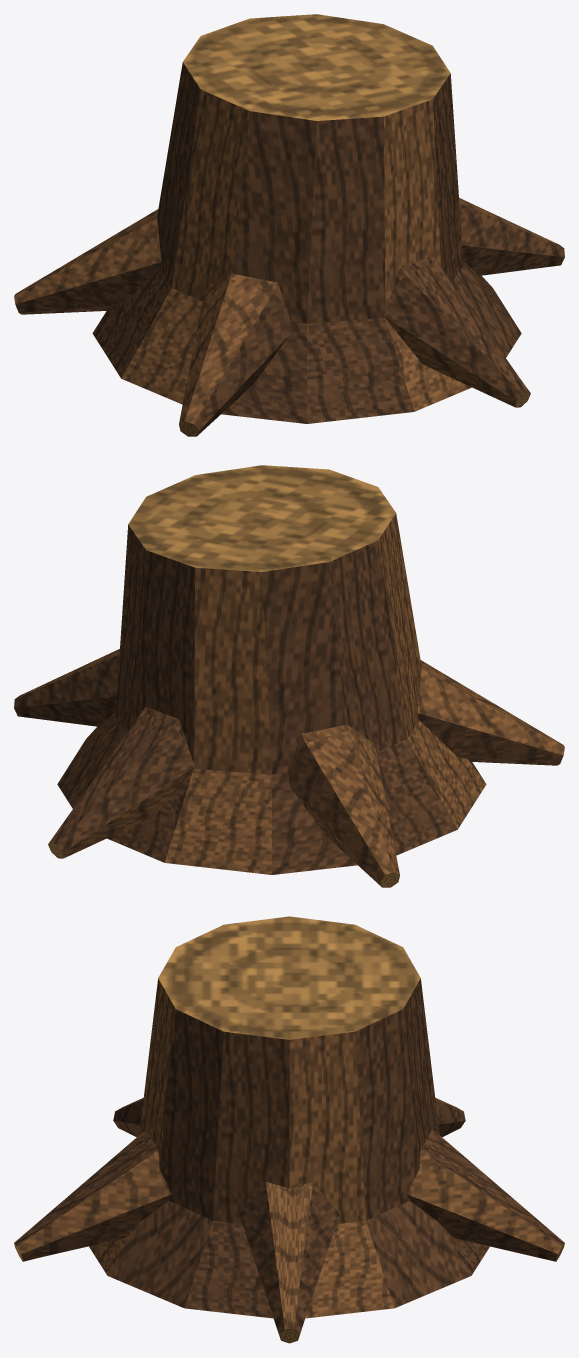
File: SM_Woodland_Stump.fbx
3 renders of one model, top to bottom at view 1: azimuth 30°, elevation 25°; view 2: azimuth 150°, elevation 25°; view 3: azimuth 270°, elevation 25°, orthographic. The views are drawn at different scales.
Visible parts, largest first — view 1: SM_Woodland_Stump; view 2: SM_Woodland_Stump; view 3: SM_Woodland_Stump.
Boxes of the visible parts, x1,y1,x2,y2 form: SM_Woodland_Stump: (14, 14, 564, 436); SM_Woodland_Stump: (14, 465, 564, 887); SM_Woodland_Stump: (14, 916, 564, 1343).
Bounding box in the file's own units: 120 × 126 × 66.59.
1 material, 1 textured.
